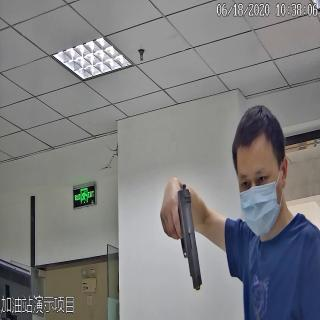gun: (170, 184, 204, 288)
